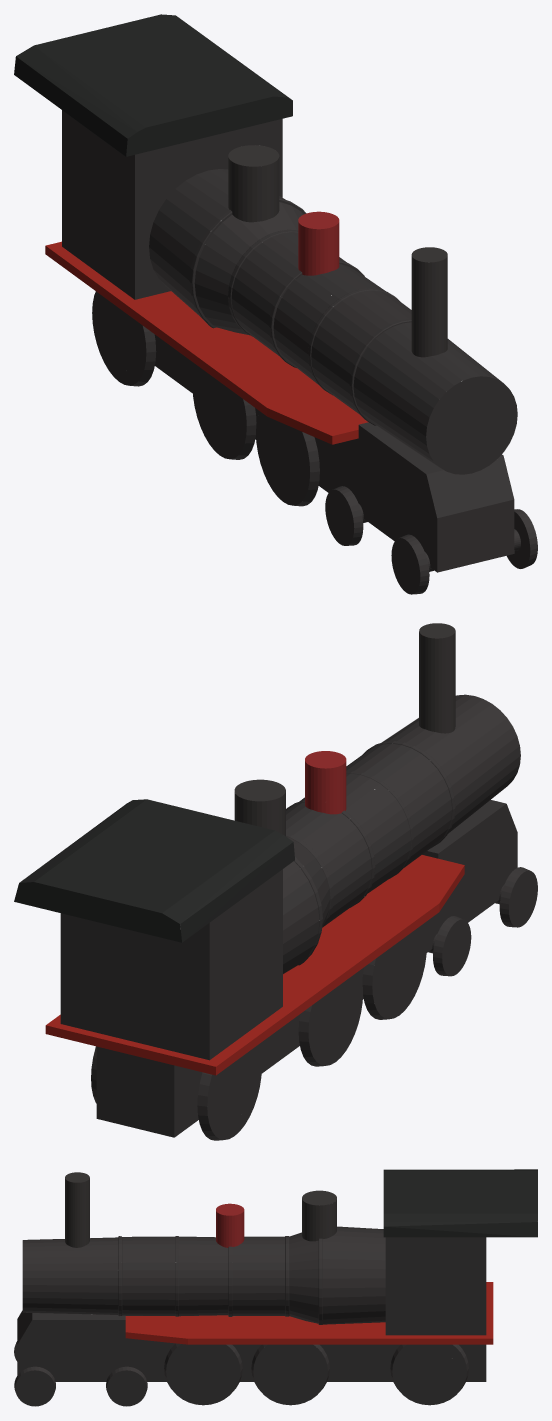
File: train.dae
3 renders of one model, top to bottom at view 1: azimuth 30°, elevation 25°; view 2: azimuth 150°, elevation 25°; view 3: azimuth 270°, elevation 25°, orthographic. The views are drawn at different scales.
Visible parts, largest first — view 1: duzyWalec, dach, podstawa, Cube, deska, duzeKola, maleKola, walec2, walec3, walec1; view 2: duzyWalec, Cube, dach, podstawa, deska, duzeKola, walec2, maleKola, walec1, walec3; view 3: duzyWalec, podstawa, duzeKola, dach, Cube, deska, maleKola, walec2, walec3, walec1.
Part boxes in pixels (x1,y1,x2,y2): duzyWalec: [149, 169, 517, 474]; dach: [14, 14, 292, 156]; podstawa: [154, 334, 514, 572]; Cube: [62, 110, 282, 299]; deska: [45, 241, 368, 444]; duzeKola: [92, 291, 319, 506]; maleKola: [325, 486, 537, 594]; walec2: [411, 247, 447, 357]; walec3: [228, 145, 279, 222]; walec1: [298, 211, 339, 275]; duzyWalec: [283, 694, 520, 973]; Cube: [60, 869, 282, 1060]; dach: [14, 799, 294, 942]; podstawa: [96, 800, 517, 1137]; deska: [45, 855, 464, 1075]; duzeKola: [91, 924, 426, 1140]; walec2: [419, 623, 455, 733]; maleKola: [428, 867, 537, 976]; walec1: [305, 751, 346, 814]; walec3: [234, 779, 285, 836]; duzyWalec: [22, 1226, 385, 1324]; podstawa: [17, 1310, 486, 1381]; duzeKola: [164, 1343, 468, 1405]; dach: [383, 1169, 537, 1237]; Cube: [385, 1237, 486, 1335]; deska: [125, 1282, 493, 1344]; maleKola: [14, 1341, 147, 1406]; walec2: [65, 1172, 89, 1247]; walec3: [302, 1190, 336, 1241]; walec1: [216, 1203, 244, 1247].
Bounding box in the file's own units: 10.8 × 42.1 × 18.53.
